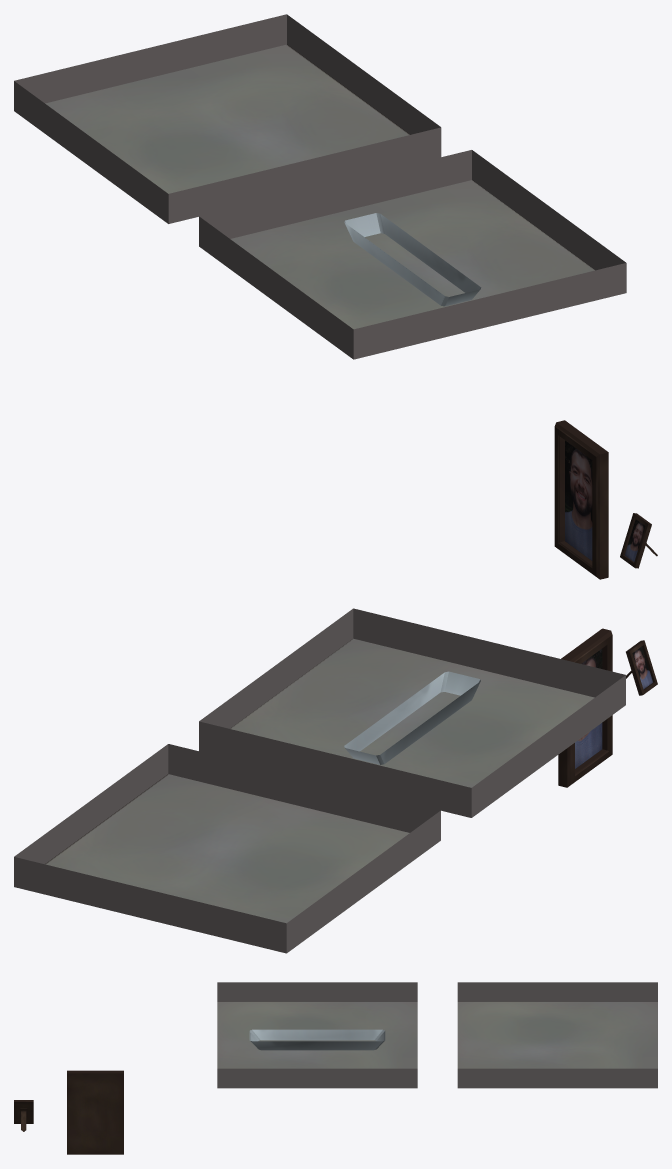
Rendered from Quadros.fbx.
3 views of the same model, one above another, from view 1: azimuth 30°, elevation 25°; view 2: azimuth 150°, elevation 25°; view 3: azimuth 270°, elevation 25° (orthographic). The views are drawn at different scales.
Parts seen in each view (by area): view 1: Teto_Lampada, Teto_Comum, Quadro, Retrato; view 2: Teto_Comum, Teto_Lampada, Quadro, Retrato; view 3: Teto_Lampada, Teto_Comum, Quadro, Retrato.
Part boxes in pixels (bbox=[...]): Teto_Lampada: bbox=[199, 150, 626, 359]; Teto_Comum: bbox=[14, 14, 441, 223]; Quadro: bbox=[554, 420, 608, 579]; Retrato: bbox=[620, 513, 657, 568]; Teto_Comum: bbox=[14, 744, 440, 953]; Teto_Lampada: bbox=[199, 608, 625, 817]; Quadro: bbox=[558, 628, 612, 787]; Retrato: bbox=[626, 640, 657, 695]; Teto_Lampada: bbox=[217, 982, 417, 1088]; Teto_Comum: bbox=[457, 982, 657, 1088]; Quadro: bbox=[67, 1070, 123, 1154]; Retrato: bbox=[14, 1100, 33, 1131].
Size of the model in its own units: 304 by 210 by 958.
